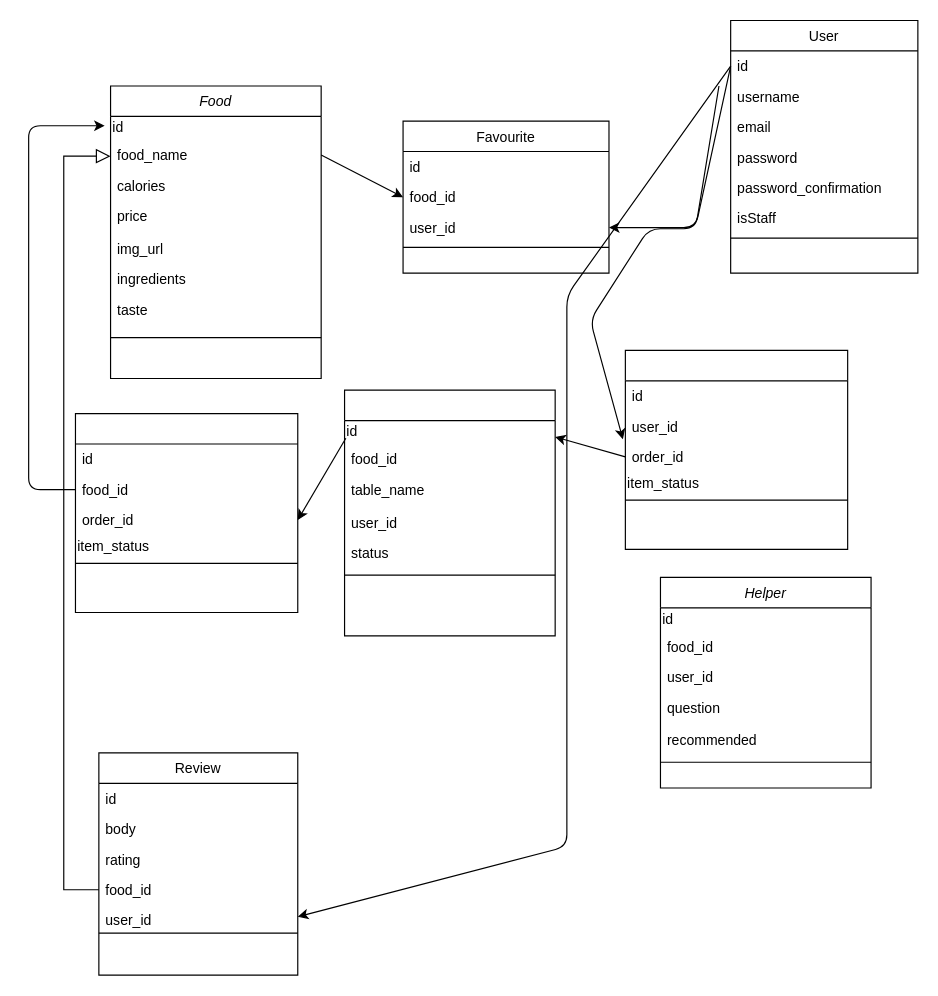
This 938x996 diagram has some shape labels left out. The box of each missing label's shape, as (x1, y1, x2, y2) in pixels:
food_order: (74, 412, 298, 612)
Order: (343, 389, 555, 636)
user_order: (624, 349, 848, 549)
